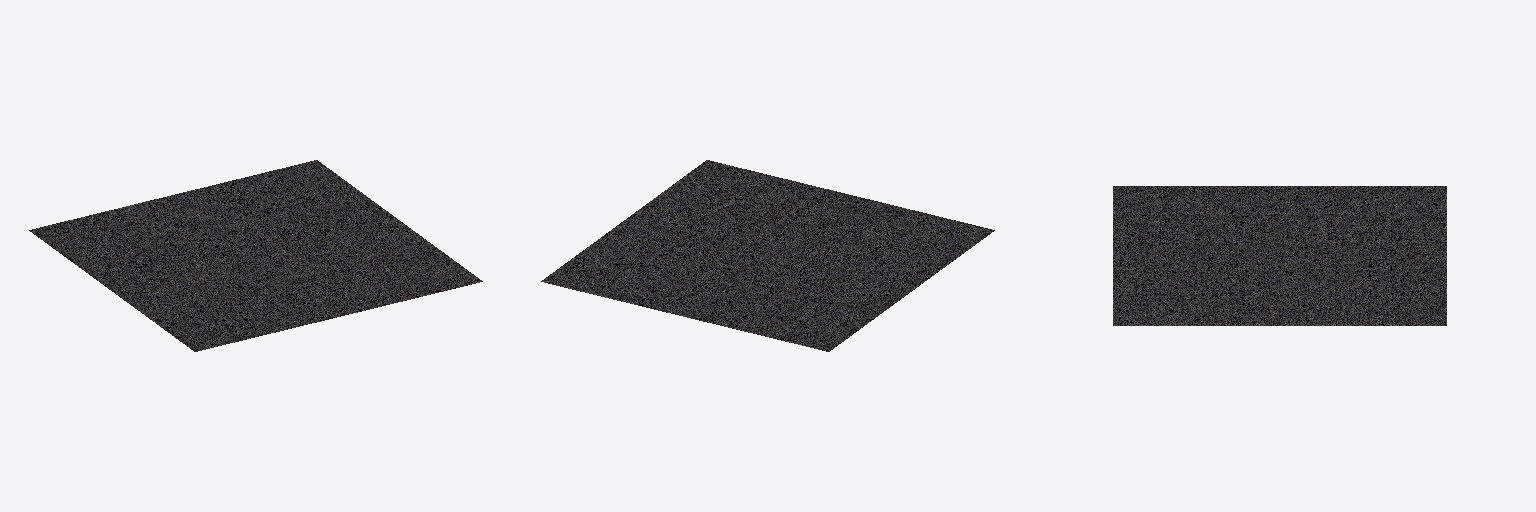
3 views of the same model, side by side, from view 1: azimuth 30°, elevation 25°; view 2: azimuth 150°, elevation 25°; view 3: azimuth 270°, elevation 25° (orthographic).
Visible parts, largest first — view 1: Plane03; view 2: Plane03; view 3: Plane03.
Part boxes in pixels (x1,y1,x2,y2): Plane03: (29,160,482,351); Plane03: (541,160,994,351); Plane03: (1113,186,1446,325).
Bounding box in the file's own units: 10 × 0 × 10.
Materials: 1 (1 with a texture image).